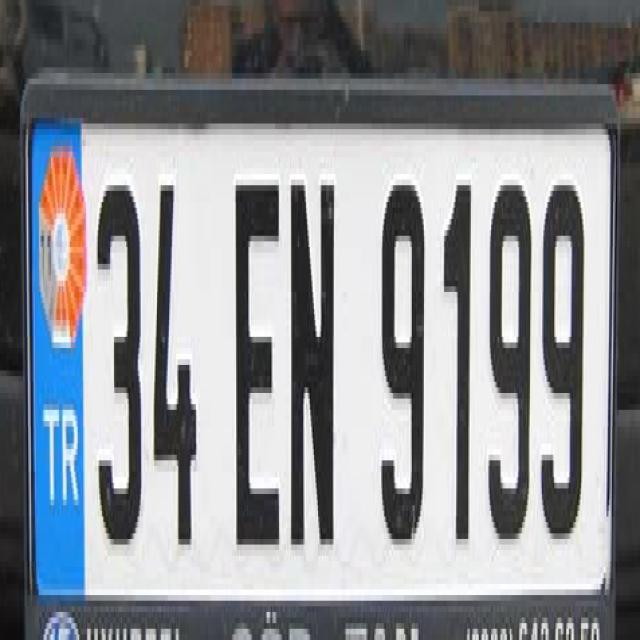Autre: (29, 113, 616, 588)
